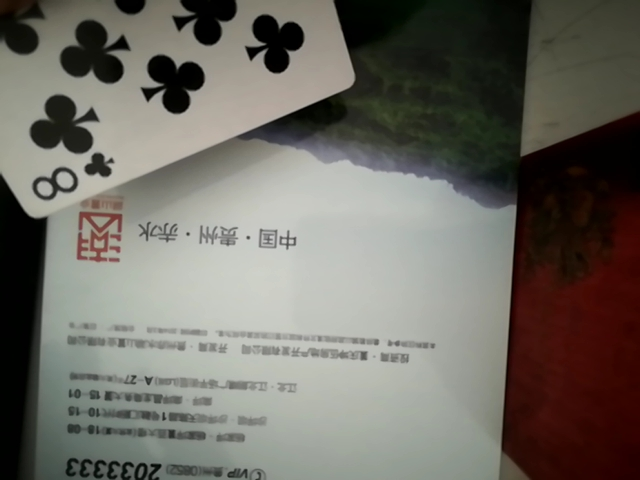mh 8: (0, 1, 367, 220)
